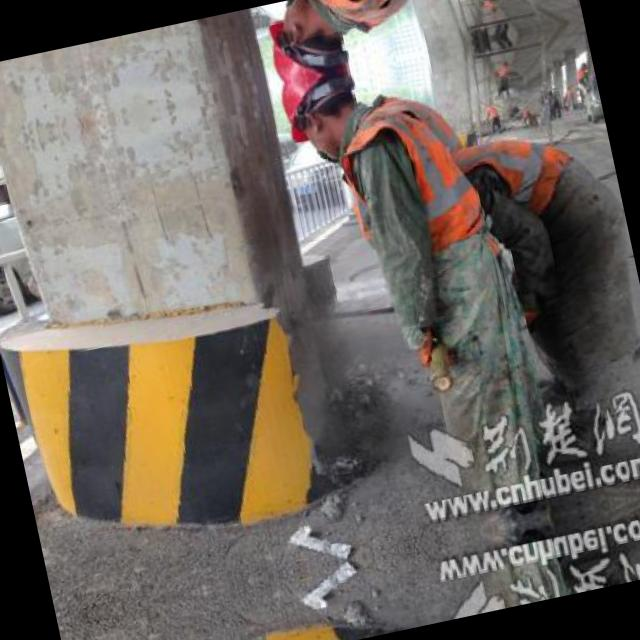helmet: (273, 67, 374, 166), (256, 0, 359, 86)
